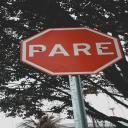Pare: (18, 23, 126, 78)
